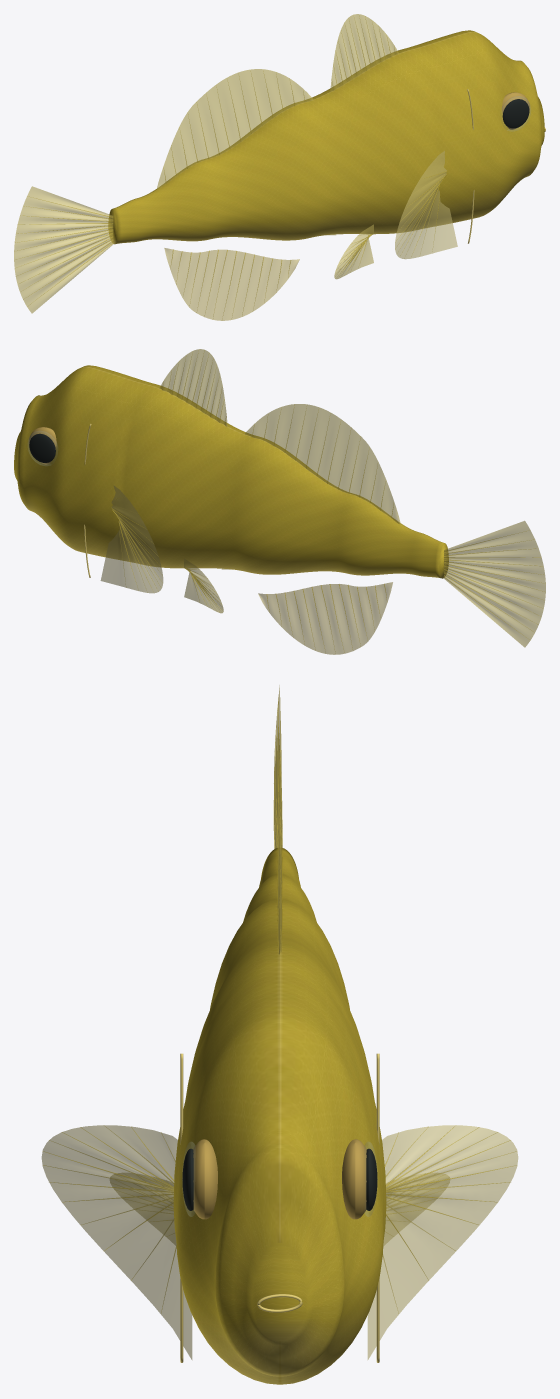
Rendered from clowngoby-desktop.glb.
3 views of the same model, one above another, from view 1: azimuth 30°, elevation 25°; view 2: azimuth 150°, elevation 25°; view 3: azimuth 270°, elevation 25° (orthographic). The views are drawn at different scales.
Parts seen in each view (by area): view 1: skin, dorsal, tail, anal, pectoral-left, dorsal-ray, pelvic-left, eye-pupil--1; view 2: skin, dorsal, tail, anal, pectoral-left, dorsal-ray, pelvic-left, eye-pupil--1; view 3: skin, pectoral-left, dorsal-ray, pelvic-left, eye-iris--1, operculum, eye-pupil--1.
Boxes of the visible parts, box(x1,y1,x2,y2) form: skin: box(108, 30, 544, 244); dorsal: box(156, 14, 398, 189); tail: box(14, 186, 113, 313); anal: box(164, 248, 299, 320); pectoral-left: box(395, 151, 457, 259); dorsal-ray: box(15, 16, 447, 316); pelvic-left: box(327, 224, 373, 279); eye-pupil--1: box(502, 99, 529, 128); skin: box(14, 365, 448, 578); dorsal: box(159, 349, 400, 524); tail: box(444, 521, 545, 647); anal: box(258, 582, 392, 654); pectoral-left: box(100, 486, 163, 593); dorsal-ray: box(111, 353, 543, 652); pelvic-left: box(184, 558, 231, 613); eye-pupil--1: box(29, 433, 55, 462); skin: box(173, 848, 386, 1384); pectoral-left: box(41, 1125, 518, 1359); dorsal-ray: box(42, 698, 516, 1306); pelvic-left: box(110, 1173, 449, 1245); eye-iris--1: box(193, 1139, 366, 1219); operculum: box(180, 1053, 379, 1362); eye-pupil--1: box(182, 1148, 377, 1210).
Bounding box in the file's own units: 0.5972 × 0.298 × 0.2343.
11 materials, 1 textured.
